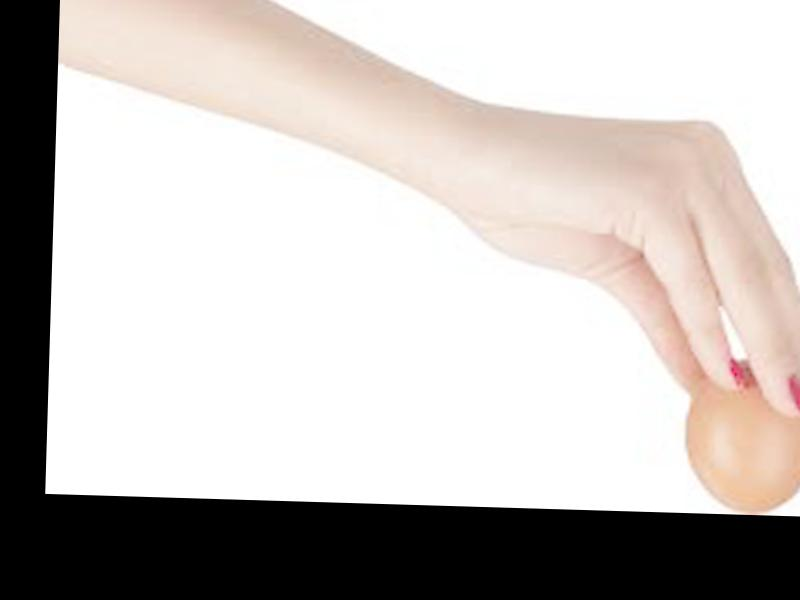Eggs: (682, 362, 800, 513)
